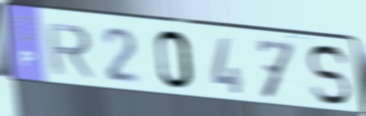0: (153, 29, 196, 93)
2: (101, 26, 143, 86)
4: (210, 36, 244, 95)
7: (254, 38, 296, 102)
R: (44, 21, 97, 80)
S: (304, 43, 352, 108)
